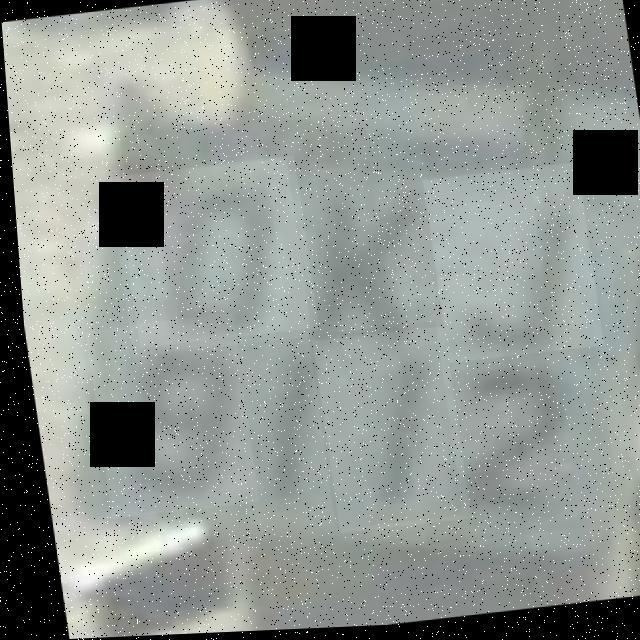0: (112, 157, 315, 351)
1: (302, 324, 455, 533)
2: (392, 330, 613, 551)
9: (79, 316, 251, 520)
J: (419, 166, 598, 367), (307, 329, 463, 536)
O: (104, 161, 307, 359)
